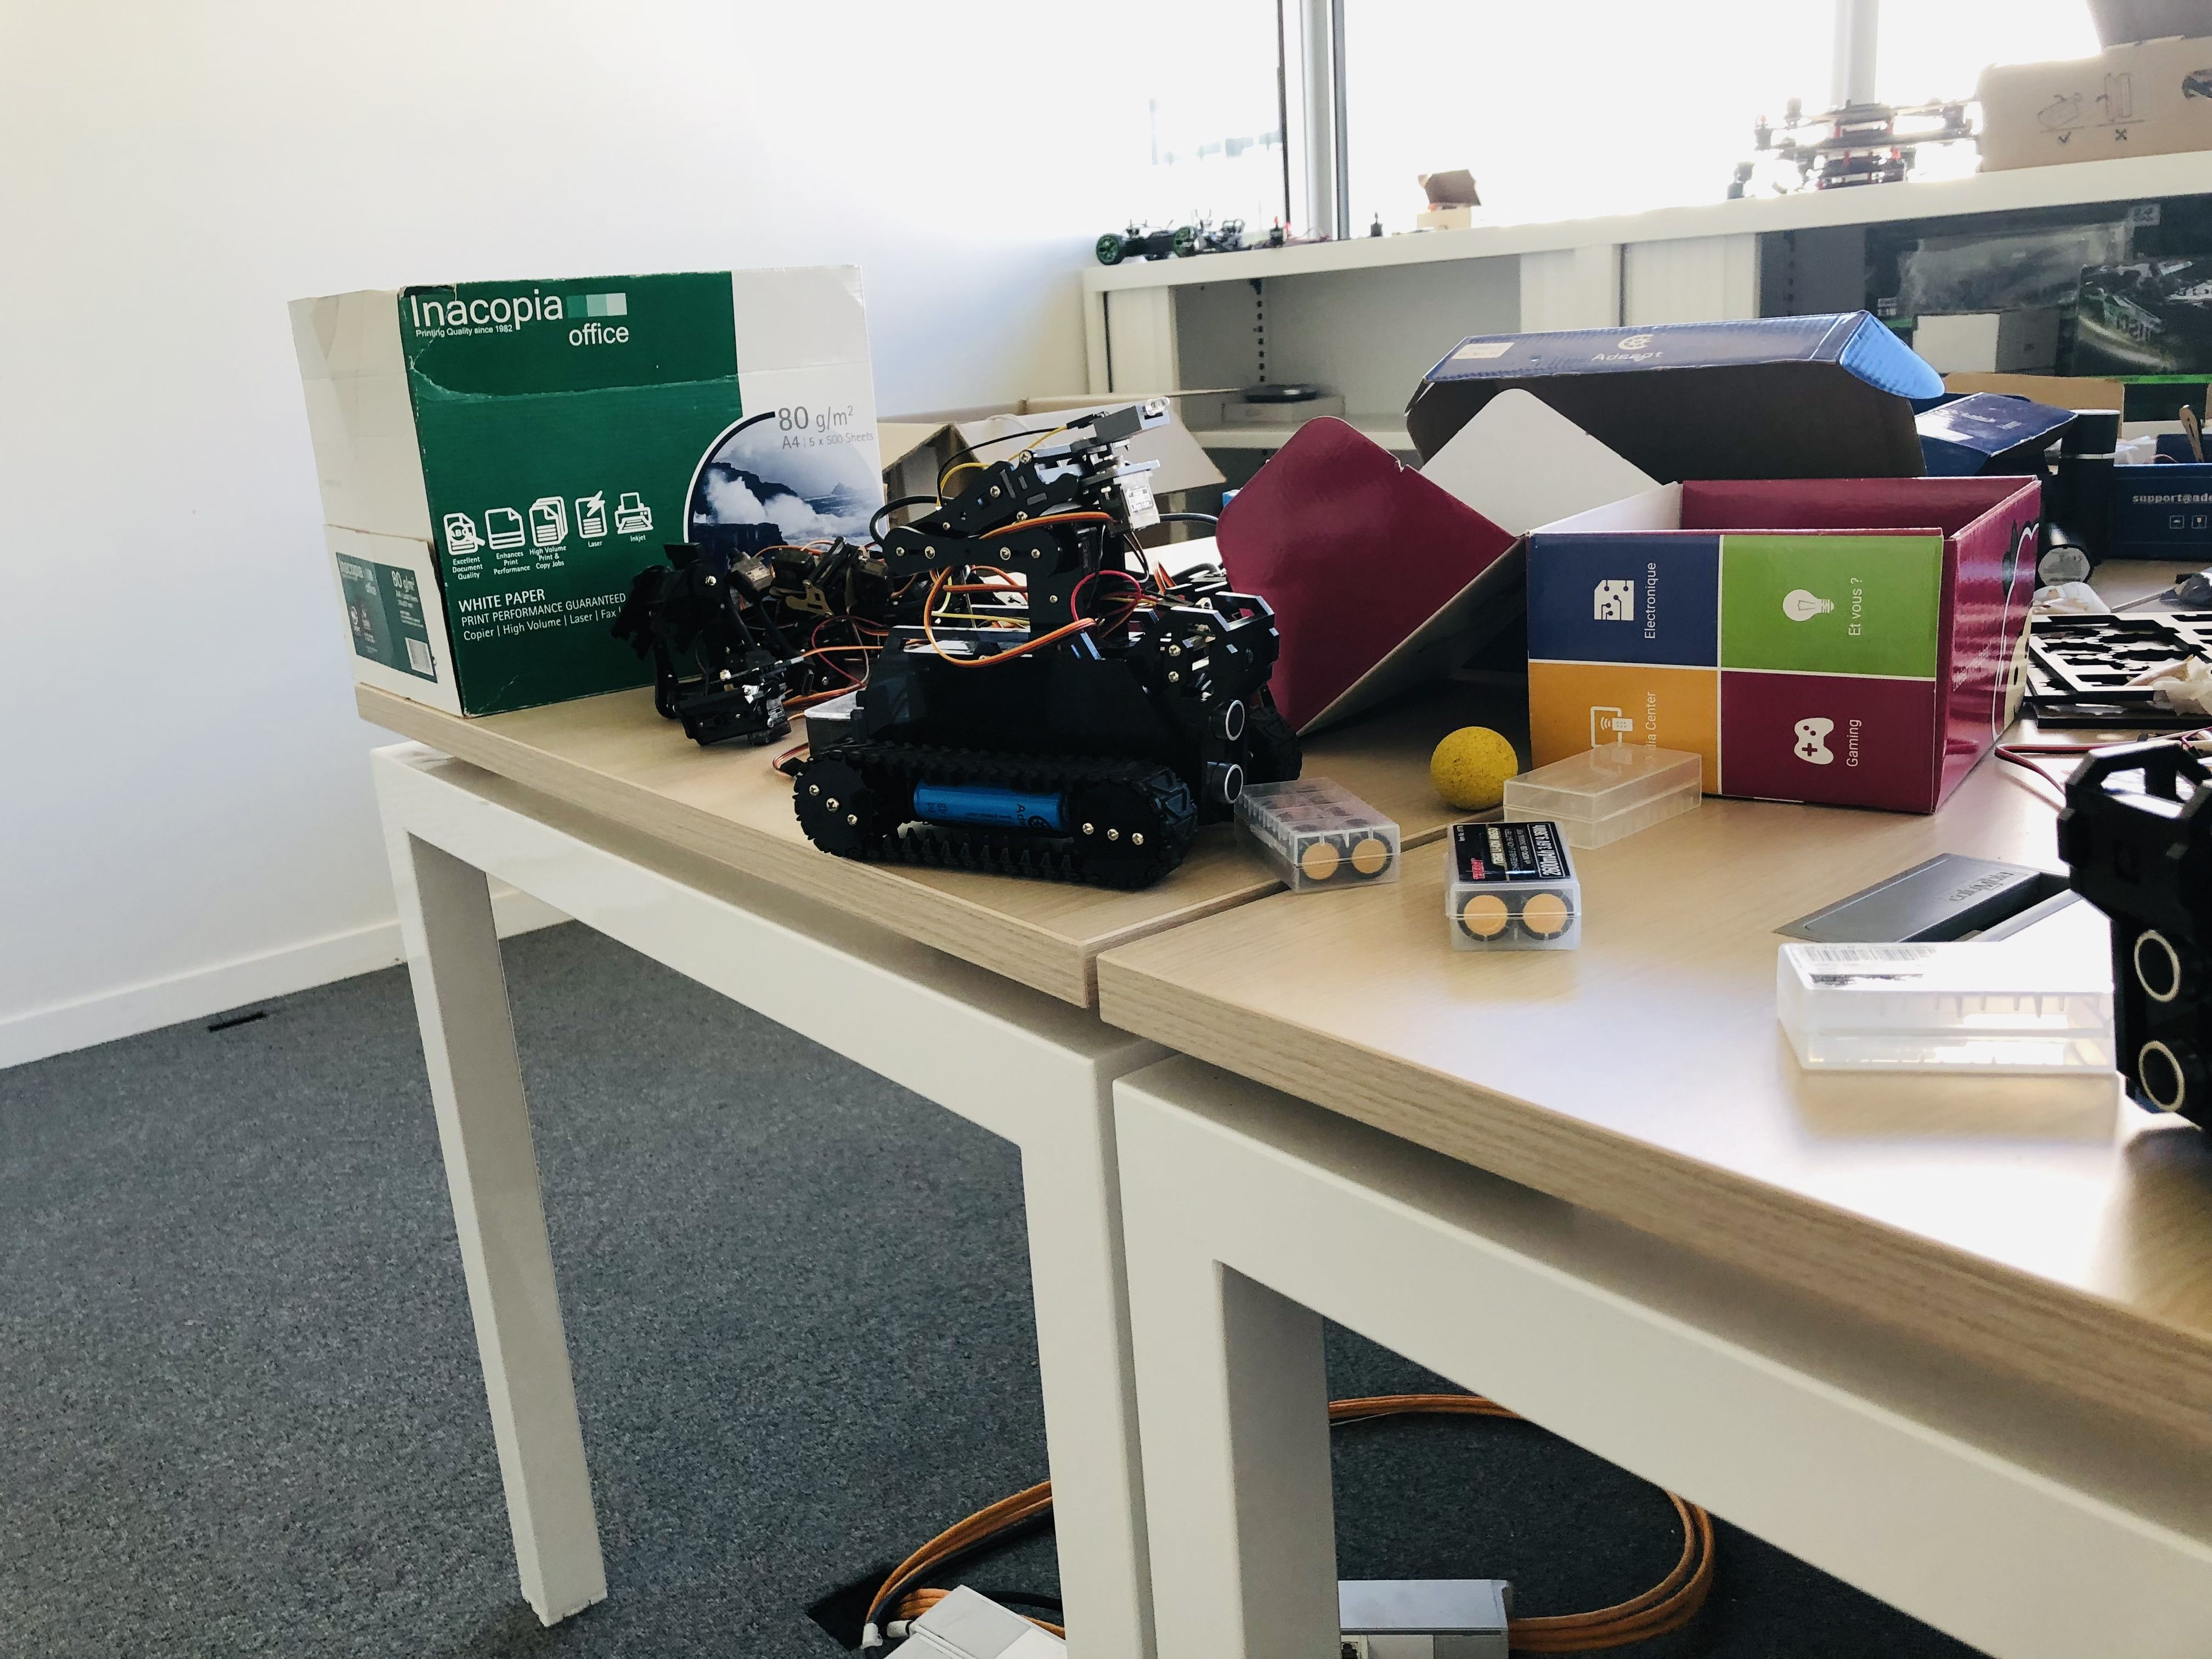rasptank: (792, 390, 1303, 863)
